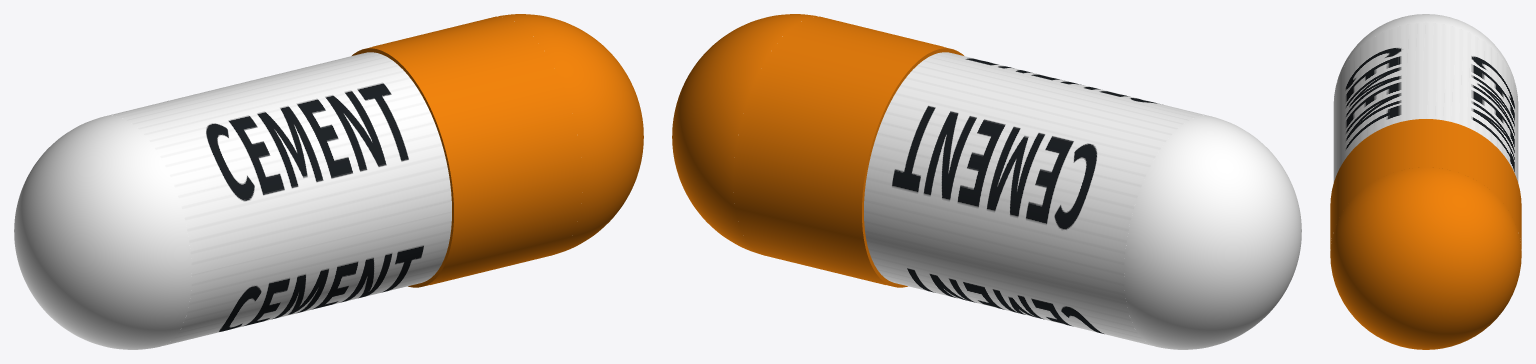
File: capsula-mta-repair-hp.glb
The picture shows the model from 3 angles, left to right: view 1: azimuth 30°, elevation 25°; view 2: azimuth 150°, elevation 25°; view 3: azimuth 270°, elevation 25°; orthographic projection. The views are drawn at different scales.
Parts seen in each view (by area): view 1: capsule_body_wall, capsule_body_dome, capsule_cap_wall, capsule_cap_dome, capsule_cap_rim; view 2: capsule_body_wall, capsule_body_dome, capsule_cap_wall, capsule_cap_dome, capsule_cap_rim; view 3: capsule_cap_dome, capsule_body_wall, capsule_cap_wall, capsule_body_dome, capsule_cap_rim.
Boxes of the visible parts, left/top/right/bottom form: capsule_body_wall: left=107, top=52, right=451, bottom=345; capsule_body_dome: left=14, top=115, right=191, bottom=349; capsule_cap_wall: left=372, top=17, right=582, bottom=284; capsule_cap_dome: left=493, top=14, right=643, bottom=254; capsule_cap_rim: left=352, top=46, right=460, bottom=287; capsule_body_wall: left=864, top=52, right=1208, bottom=345; capsule_body_dome: left=1124, top=115, right=1301, bottom=349; capsule_cap_wall: left=733, top=17, right=943, bottom=284; capsule_cap_dome: left=672, top=14, right=822, bottom=254; capsule_cap_rim: left=855, top=46, right=963, bottom=287; capsule_cap_dome: left=1330, top=167, right=1521, bottom=349; capsule_body_wall: left=1333, top=22, right=1518, bottom=182; capsule_cap_wall: left=1330, top=121, right=1521, bottom=249; capsule_body_dome: left=1334, top=14, right=1517, bottom=96; capsule_cap_rim: left=1330, top=119, right=1521, bottom=198.
Size of the model in its own units: 0.0244 by 0.0087 by 0.0087.
3 materials, 1 textured.
